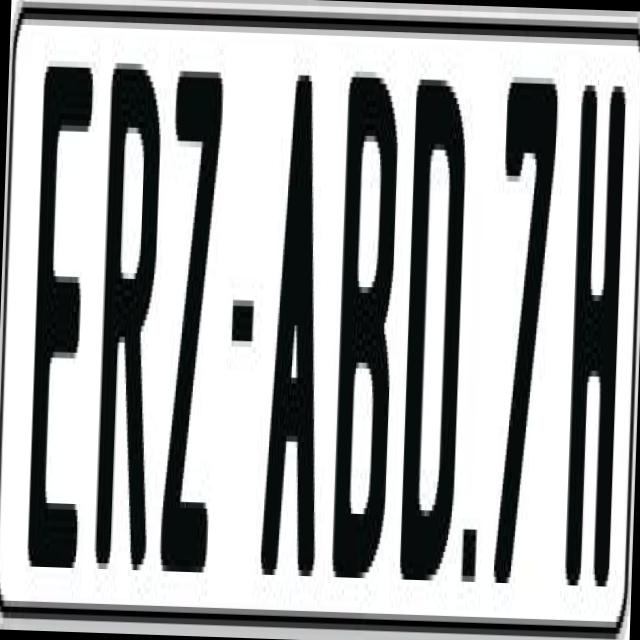7: (486, 76, 554, 584)
A: (259, 56, 329, 558)
B: (326, 70, 398, 584)
D: (397, 73, 471, 598)
E: (22, 48, 93, 586)
H: (561, 67, 629, 592)
R: (94, 62, 164, 576)
Z: (157, 70, 230, 572)
